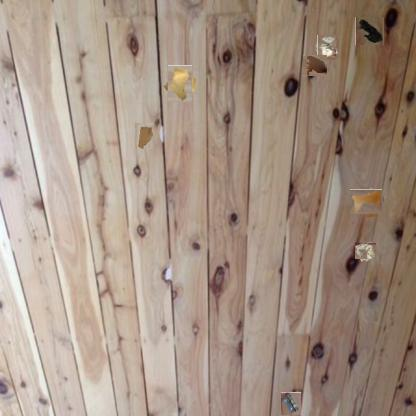dirty: (165, 68, 196, 99), (355, 17, 384, 45), (315, 37, 338, 60), (136, 124, 154, 150), (281, 392, 301, 415), (356, 242, 375, 260)
liquid: (352, 188, 381, 216), (303, 54, 327, 77)
